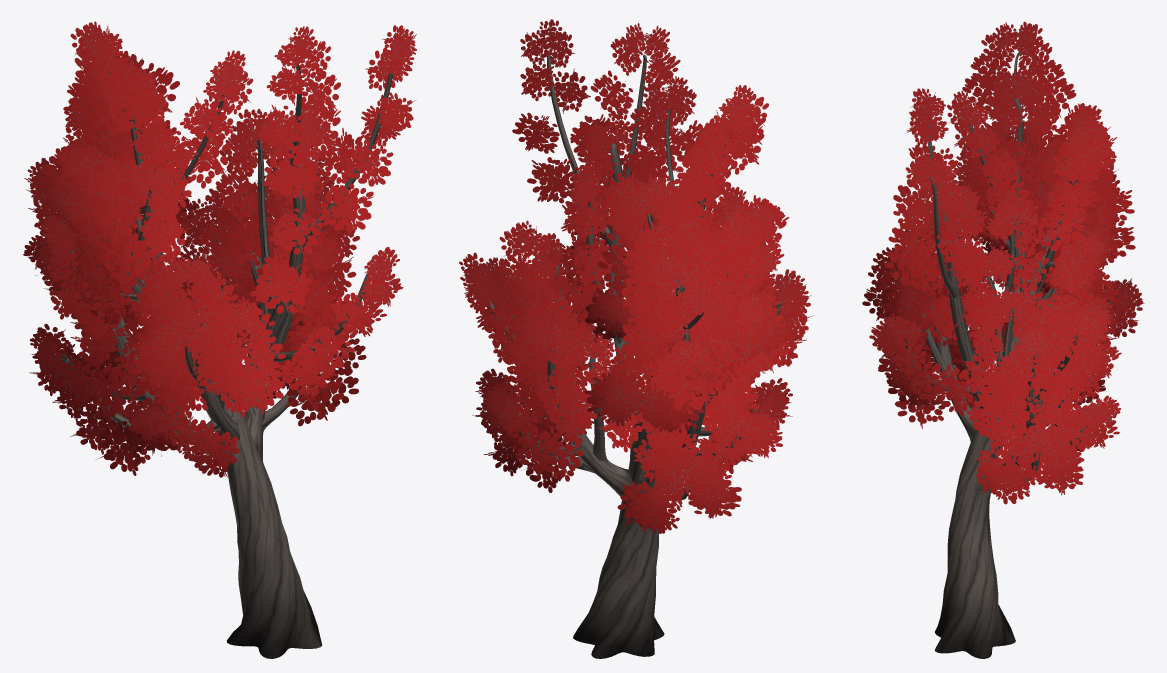
Rendered from TwistedTree_2.gltf.
3 views of the same model, side by side, from view 1: azimuth 30°, elevation 25°; view 2: azimuth 150°, elevation 25°; view 3: azimuth 270°, elevation 25° (orthographic). The views are drawn at different scales.
Visible parts, largest first — view 1: TwistedTree_2; view 2: TwistedTree_2; view 3: TwistedTree_2.
Boxes of the visible parts, x1=… form: TwistedTree_2: x1=23, y1=21, x2=416, y2=658; TwistedTree_2: x1=459, y1=19, x2=814, y2=658; TwistedTree_2: x1=862, y1=21, x2=1144, y2=658.
Size of the model in its own units: 10.56 by 18.95 by 9.2.
2 materials, 2 textured.
